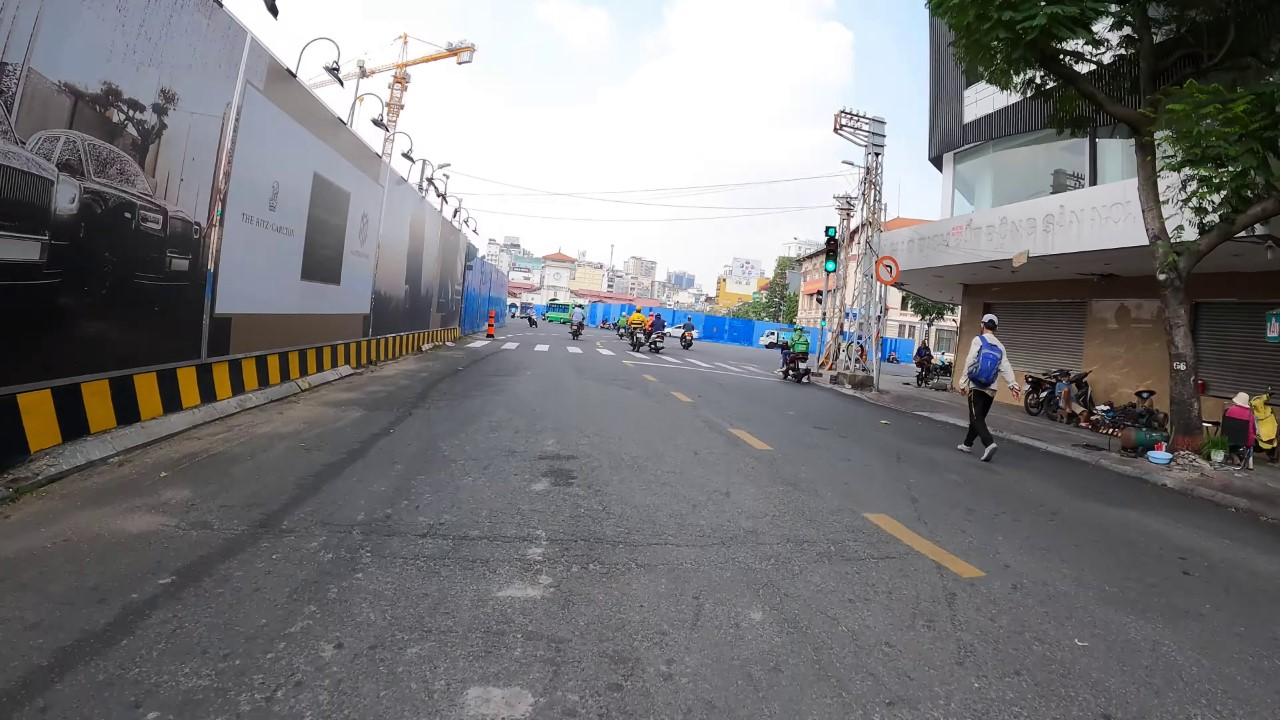cam_re_trai: (873, 254, 900, 287)
